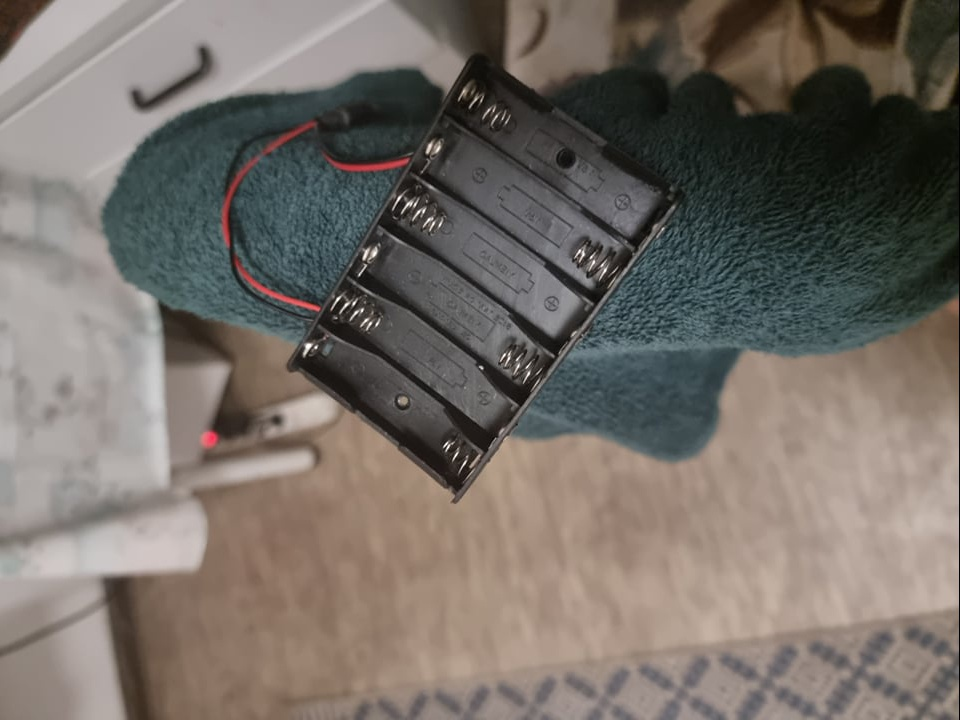BATTERY BOX: (290, 55, 694, 506)
